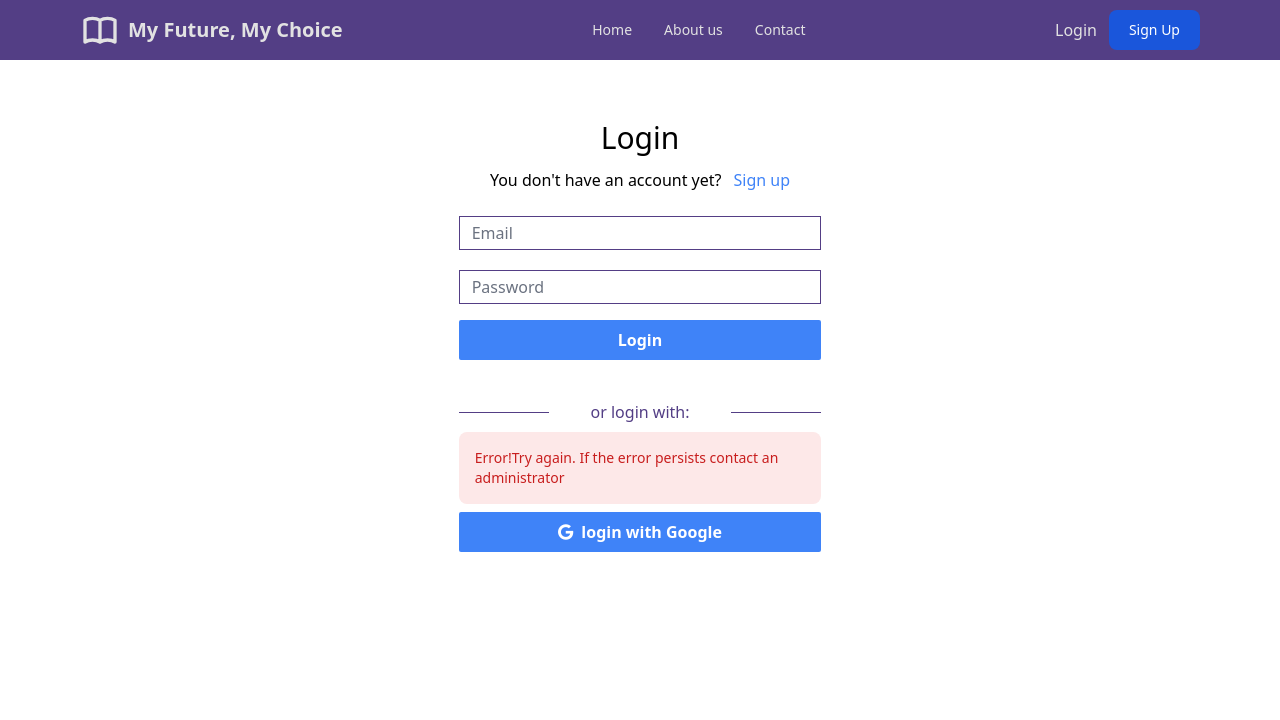
Test: Testing login and signup page › should show an error message when credentials are invalid
Type "example@test.c" into the element with test id "email-input".
click(641, 233); type("example@test.c")  # box [459,216,822,250]
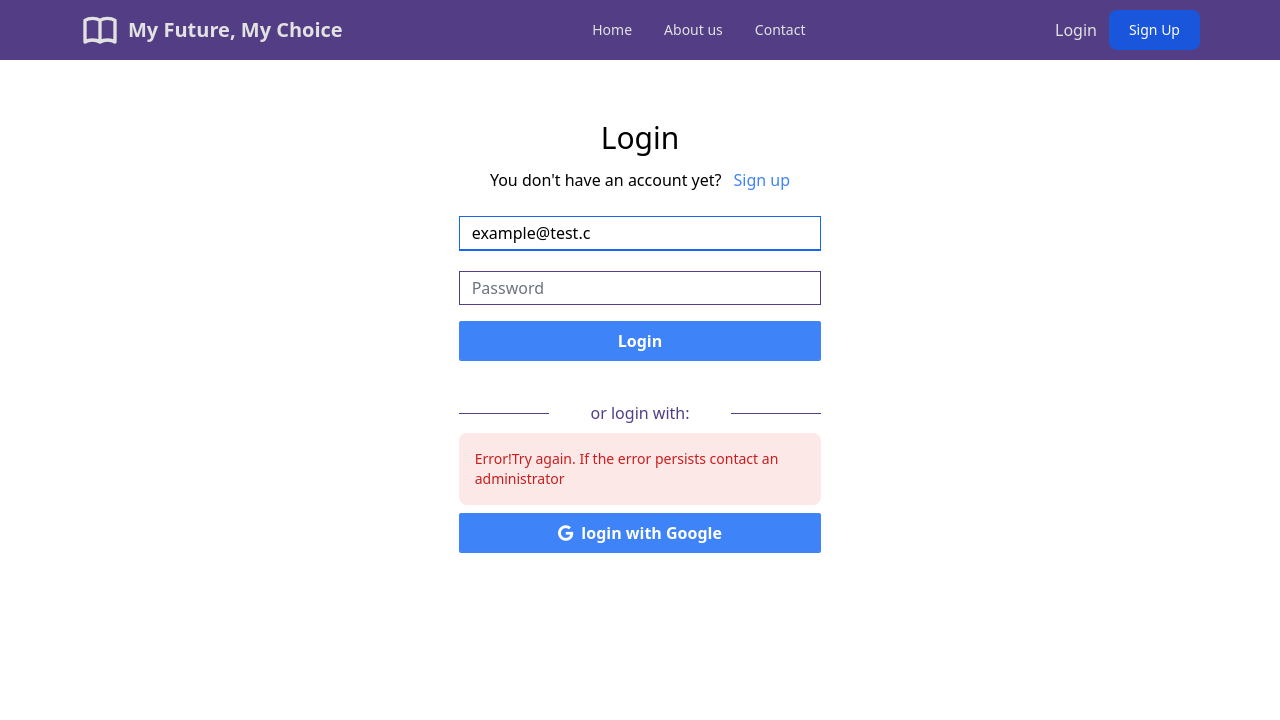
Type "123456" into the element with test id "pass-input".
click(641, 288); type("123456")  # box [459,271,822,305]
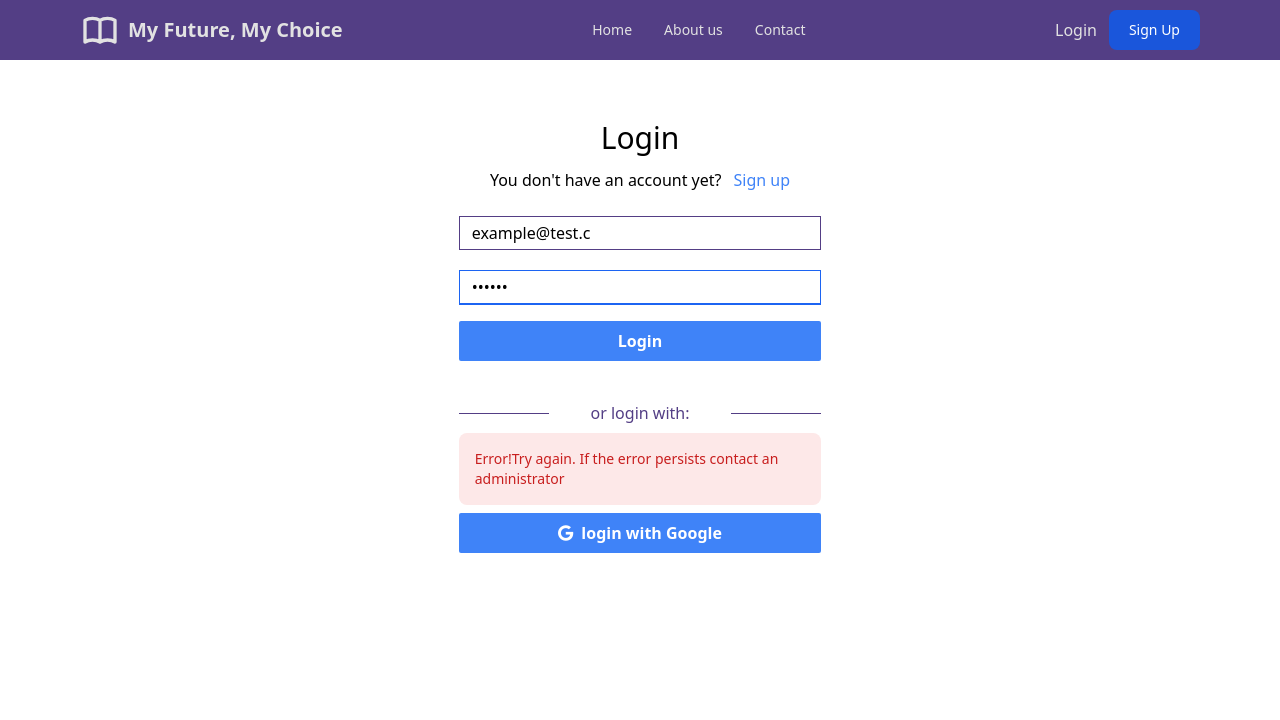
Click the button with test id "submit-button".
click(641, 341)  # box [459,321,822,361]
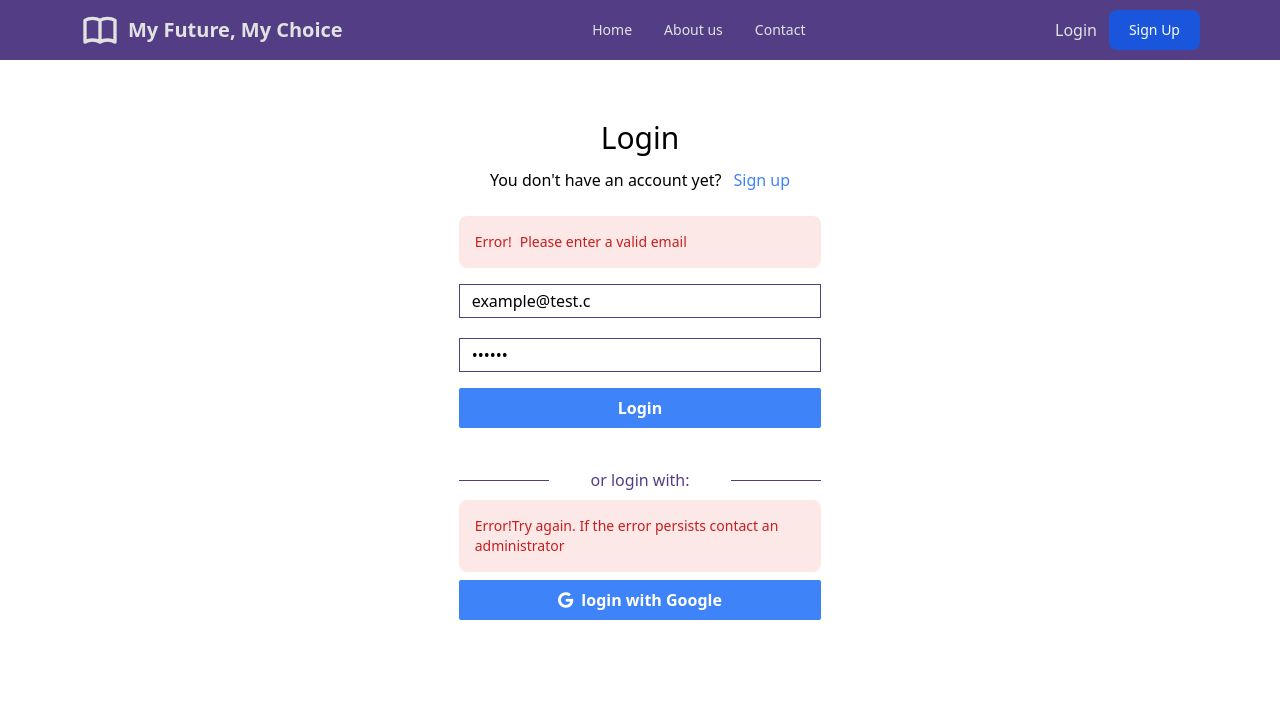
Expected: the message "Error!Please enter a valid email" is shown, [459,216,821,268]
